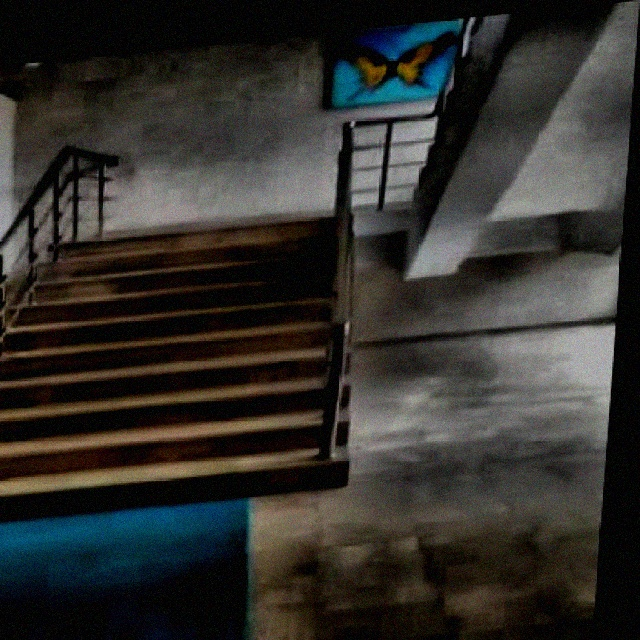stair: (1, 198, 377, 512)
